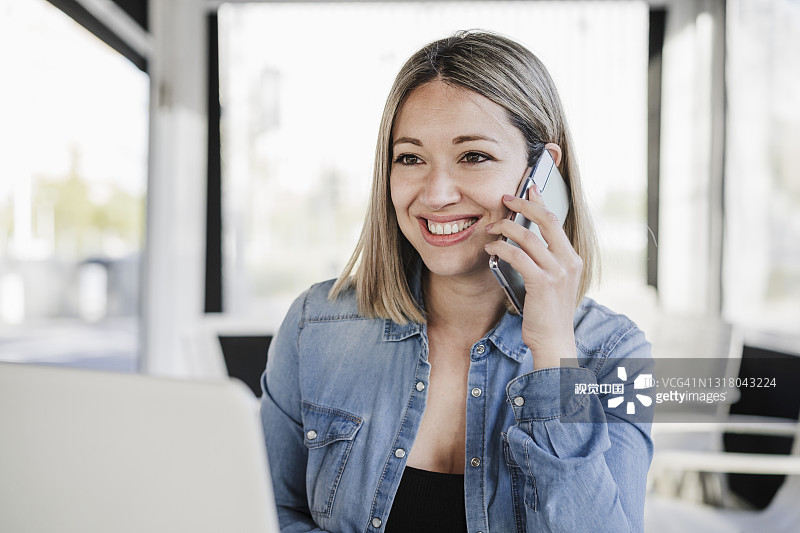calling: (479, 145, 623, 361)
